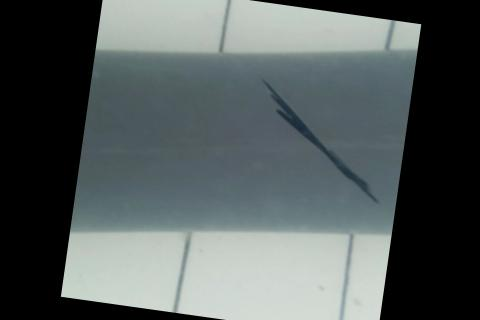keretakan: (242, 78, 394, 204)
